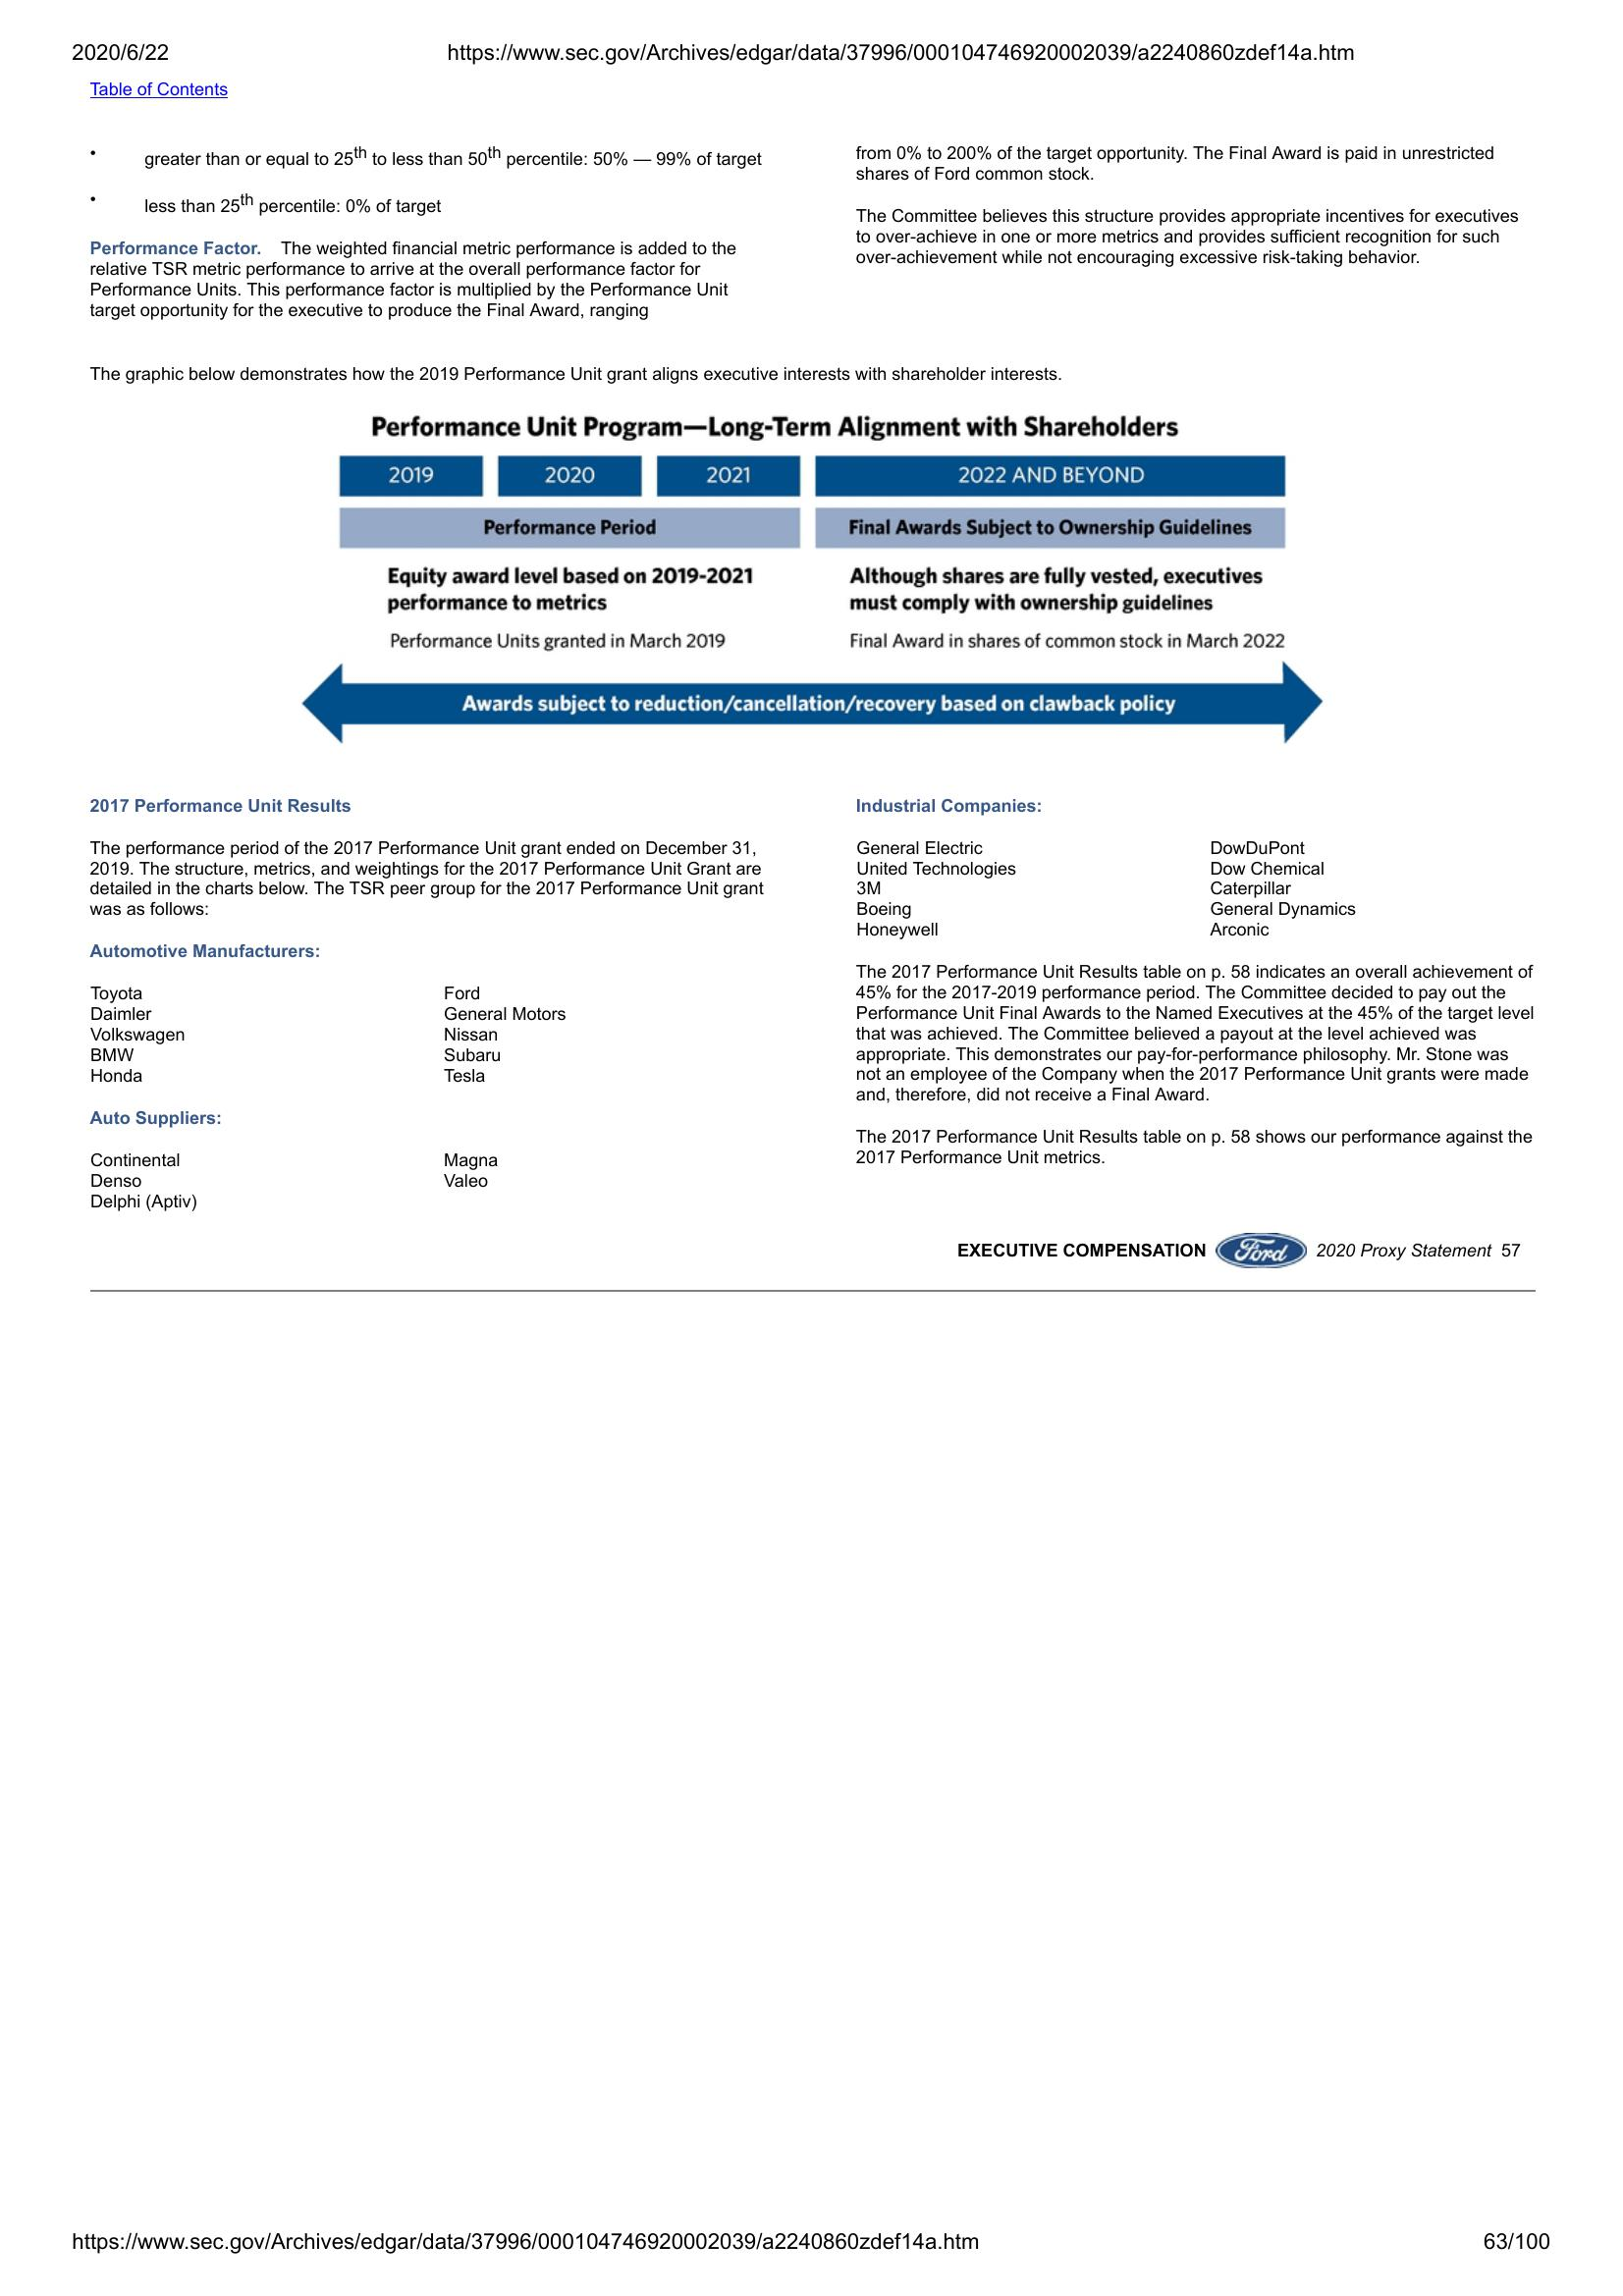table: (88, 972, 569, 1090), (848, 834, 1361, 941), (84, 1144, 506, 1216)
